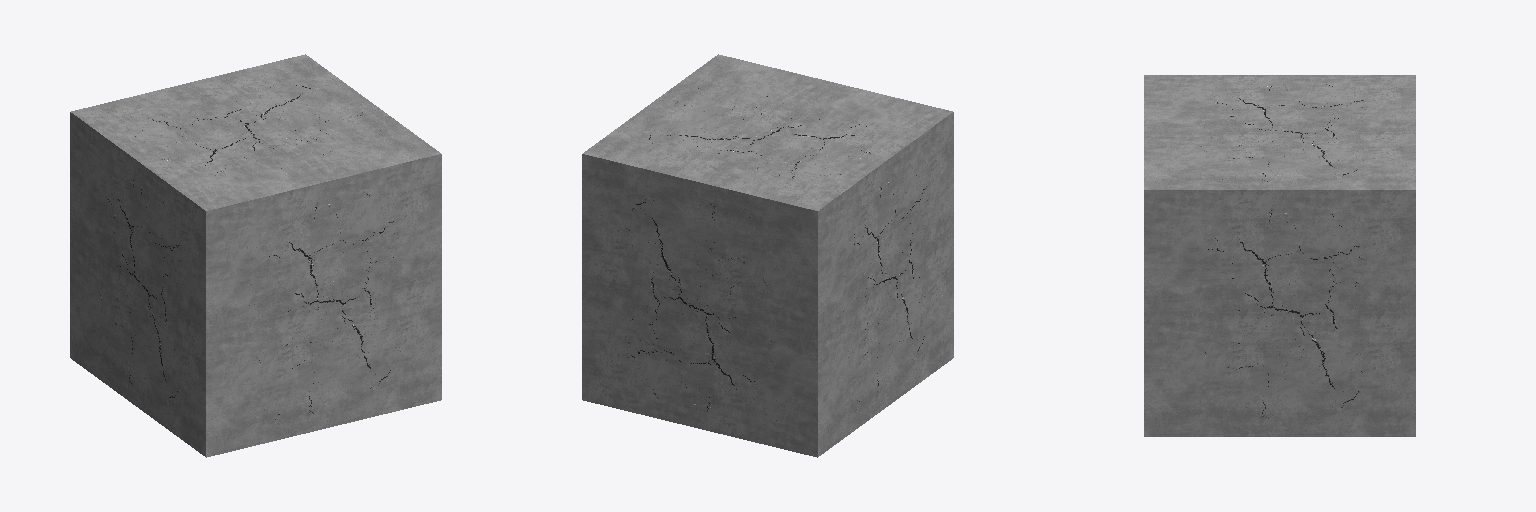
3 views of the same model, side by side, from view 1: azimuth 30°, elevation 25°; view 2: azimuth 150°, elevation 25°; view 3: azimuth 270°, elevation 25° (orthographic).
Parts seen in each view (by area): view 1: Cube; view 2: Cube; view 3: Cube.
Part boxes in pixels (x1,y1,x2,y2): Cube: (70, 54, 441, 457); Cube: (582, 54, 953, 457); Cube: (1144, 75, 1415, 436).
Size of the model in its own units: 2 by 2 by 2.
Materials: 1 (1 with a texture image).